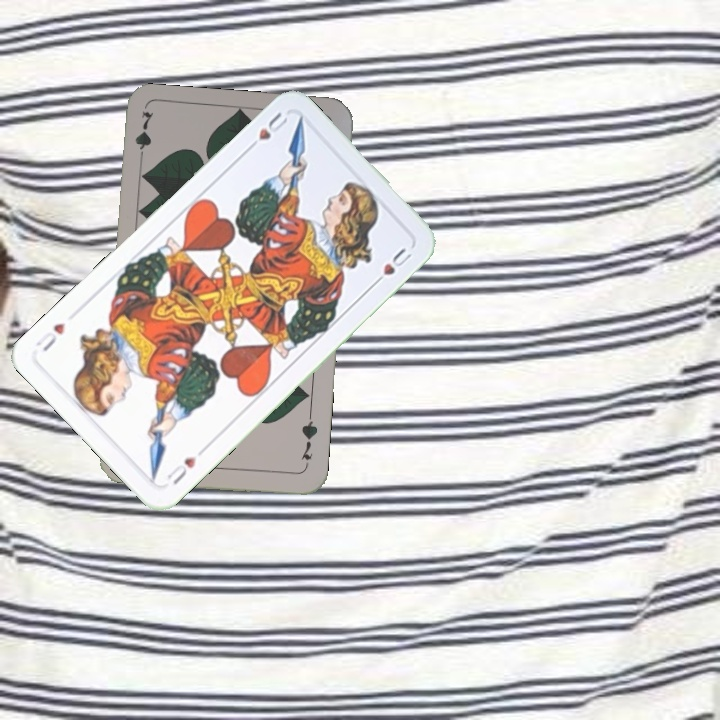G7: (131, 108, 156, 167), (297, 411, 321, 470)
HU: (242, 108, 291, 154), (162, 444, 208, 487)
